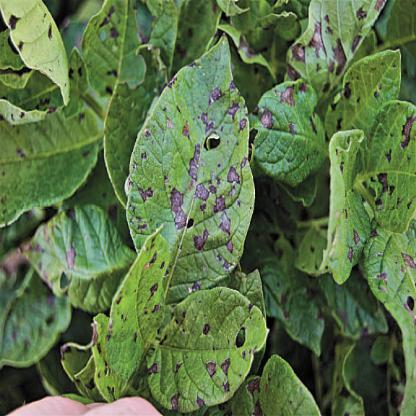Potato leaf early blight: (122, 30, 256, 299), (148, 286, 270, 405), (110, 221, 167, 392), (368, 231, 415, 413), (252, 83, 333, 188), (355, 97, 415, 233), (292, 1, 384, 87), (326, 185, 368, 279)
